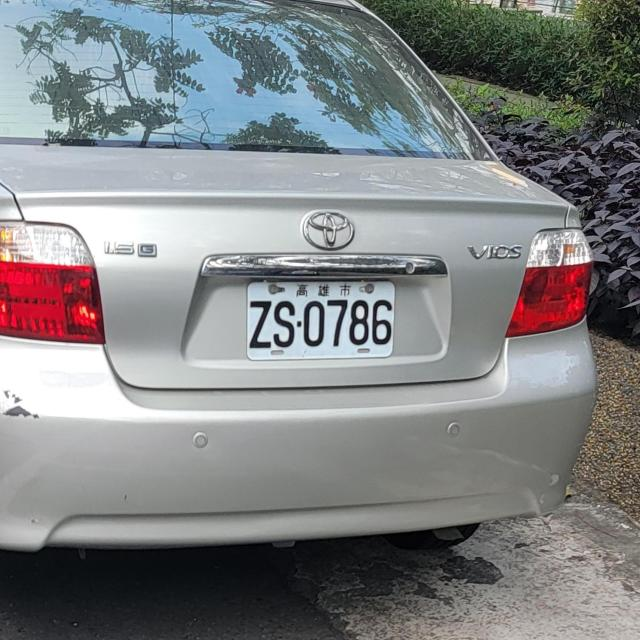W: (243, 274, 399, 369)
